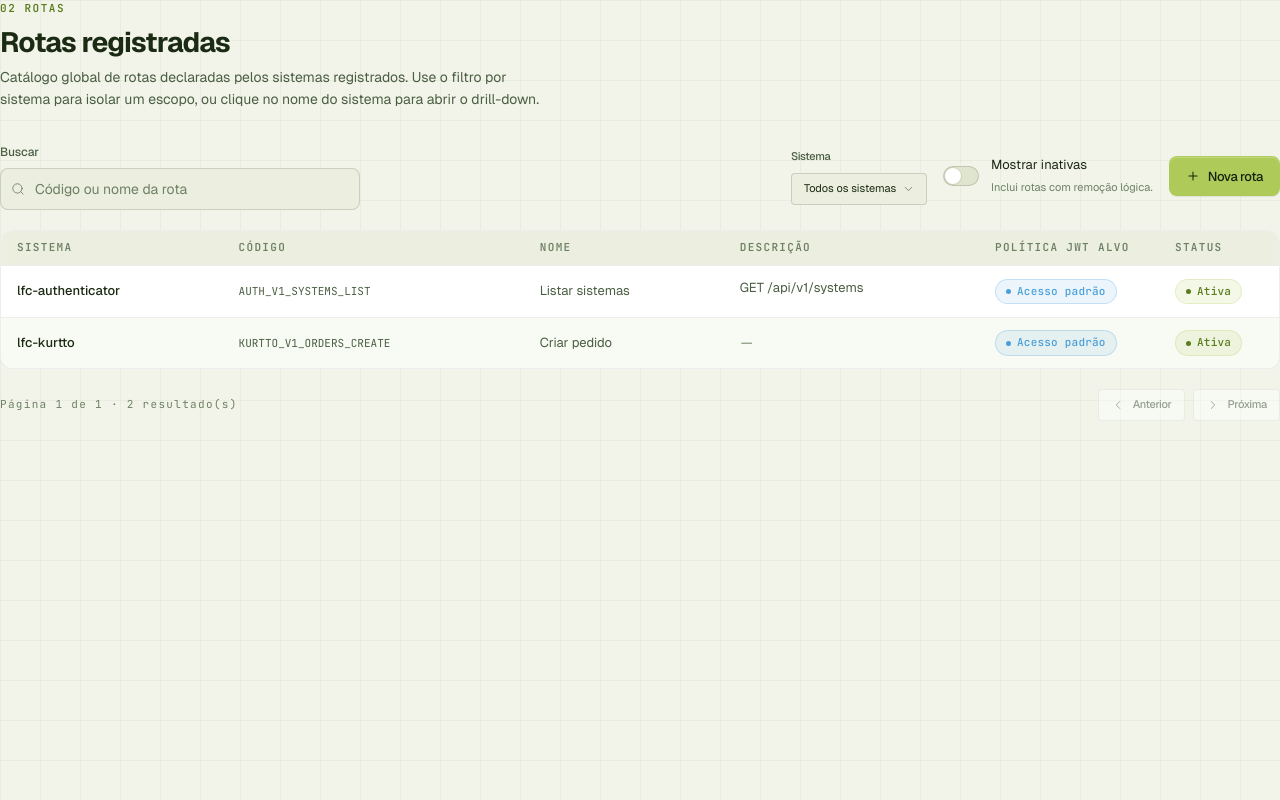
Test: RoutesGlobalListShellPage — botão "Nova rota" (Issue #187) › validação e submissão do modal global › escolher sistema, preencher campos e submeter envia POST com systemId selecionado
Click the button with test id "routes-global-create-open" at (1224, 176), box [1169,156,1279,196]
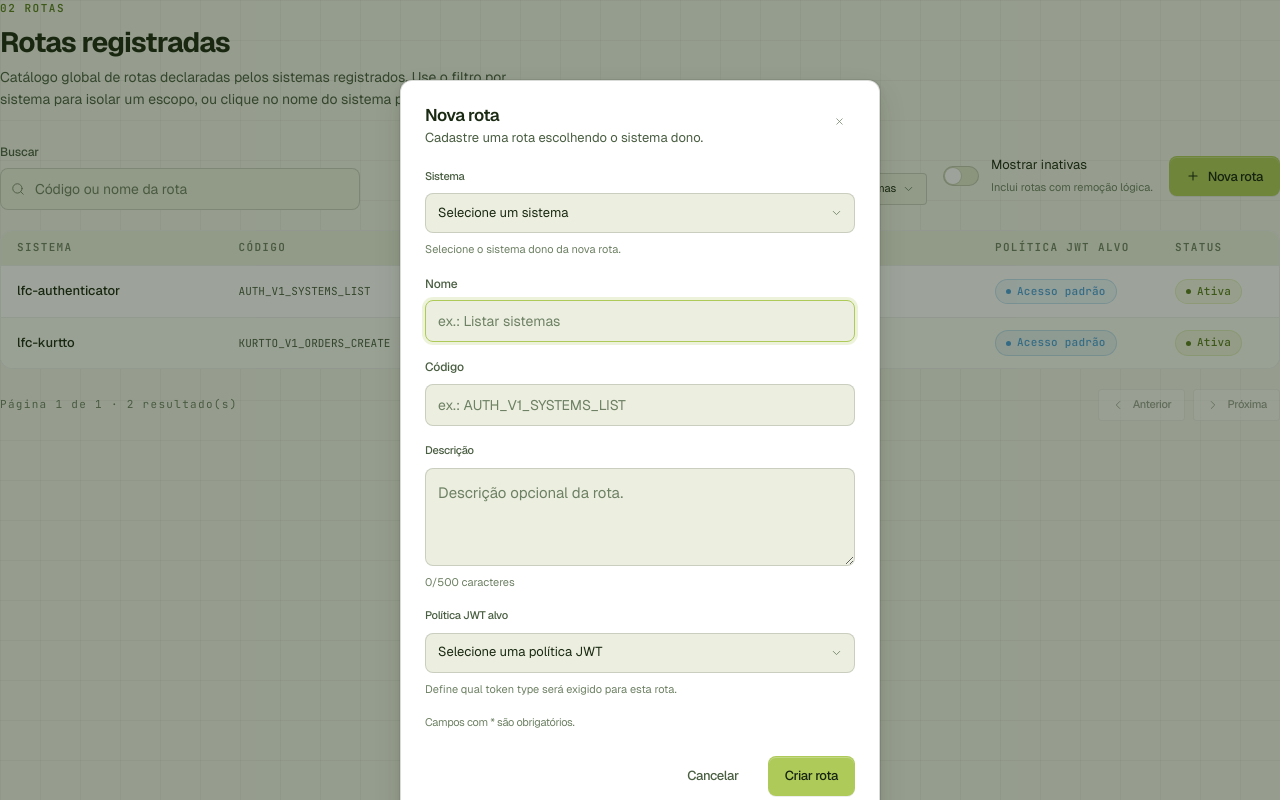
Result: the form with test id "new-route-form" is shown at [425,168,855,796]
Result: the dropdown with test id "new-route-system-id" is enabled
Result: the dropdown with test id "new-route-system-token-type-id" is enabled at [425,633,855,673]
Select "lfc-kurtto" in the dropdown with test id "new-route-system-id" at (640, 213), box [425,193,855,233]
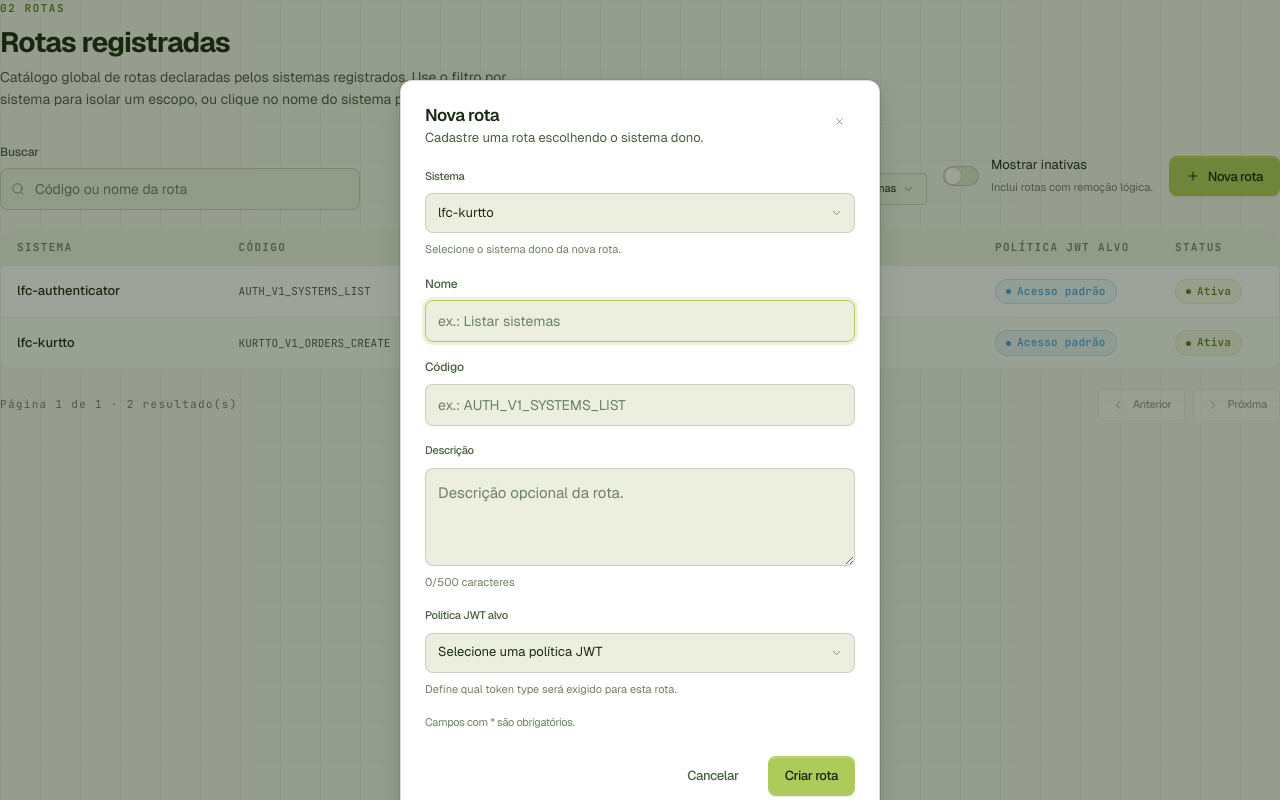
Type "Criar pedido" into the field with test id "new-route-name" at (640, 321), box [425,300,855,342]
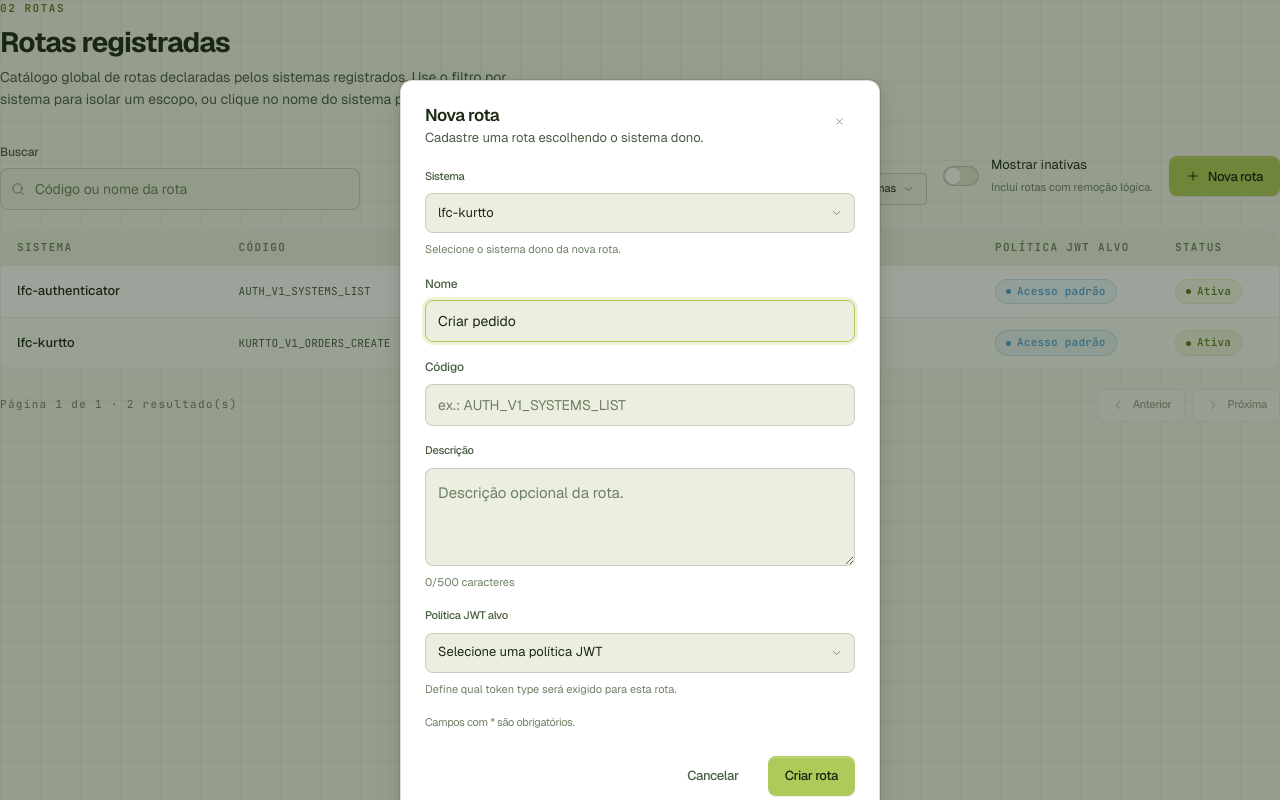
Type "KURTTO_V1_ORDERS_CREATE" into the field with test id "new-route-code" at (640, 405), box [425,384,855,426]
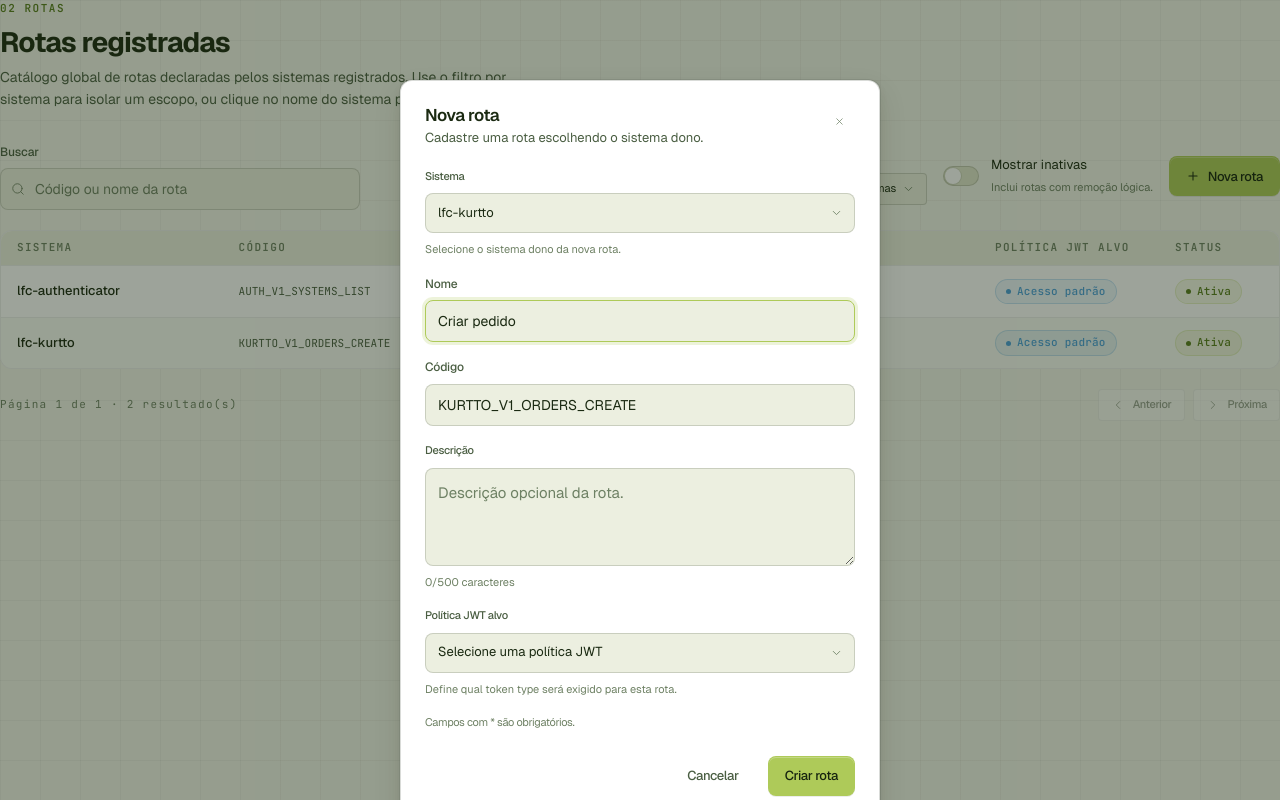
Select "Acesso padrão" in the dropdown with test id "new-route-system-token-type-id" at (640, 653), box [425,633,855,673]
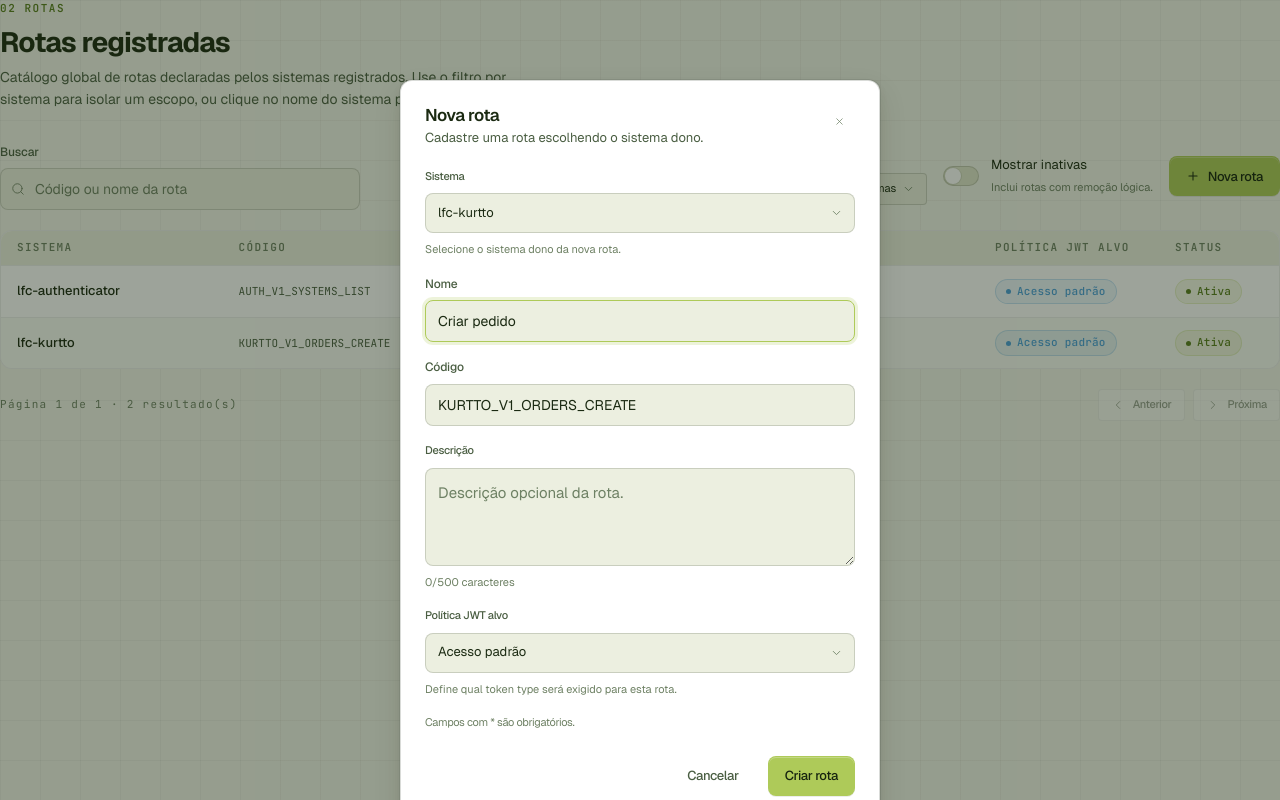
Submit the form with test id "new-route-form", box [425,168,855,796]
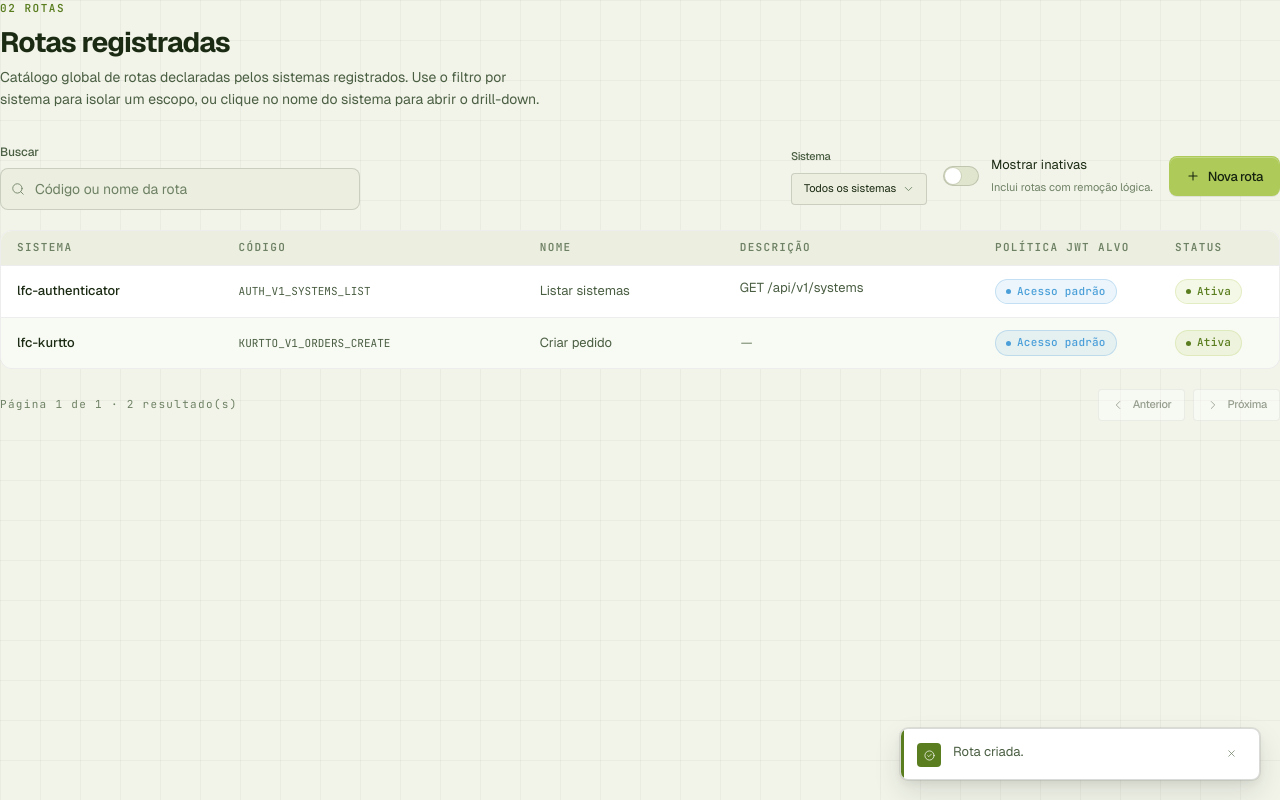
Result: the text "Rota criada." is shown at [953,743,1023,760]
